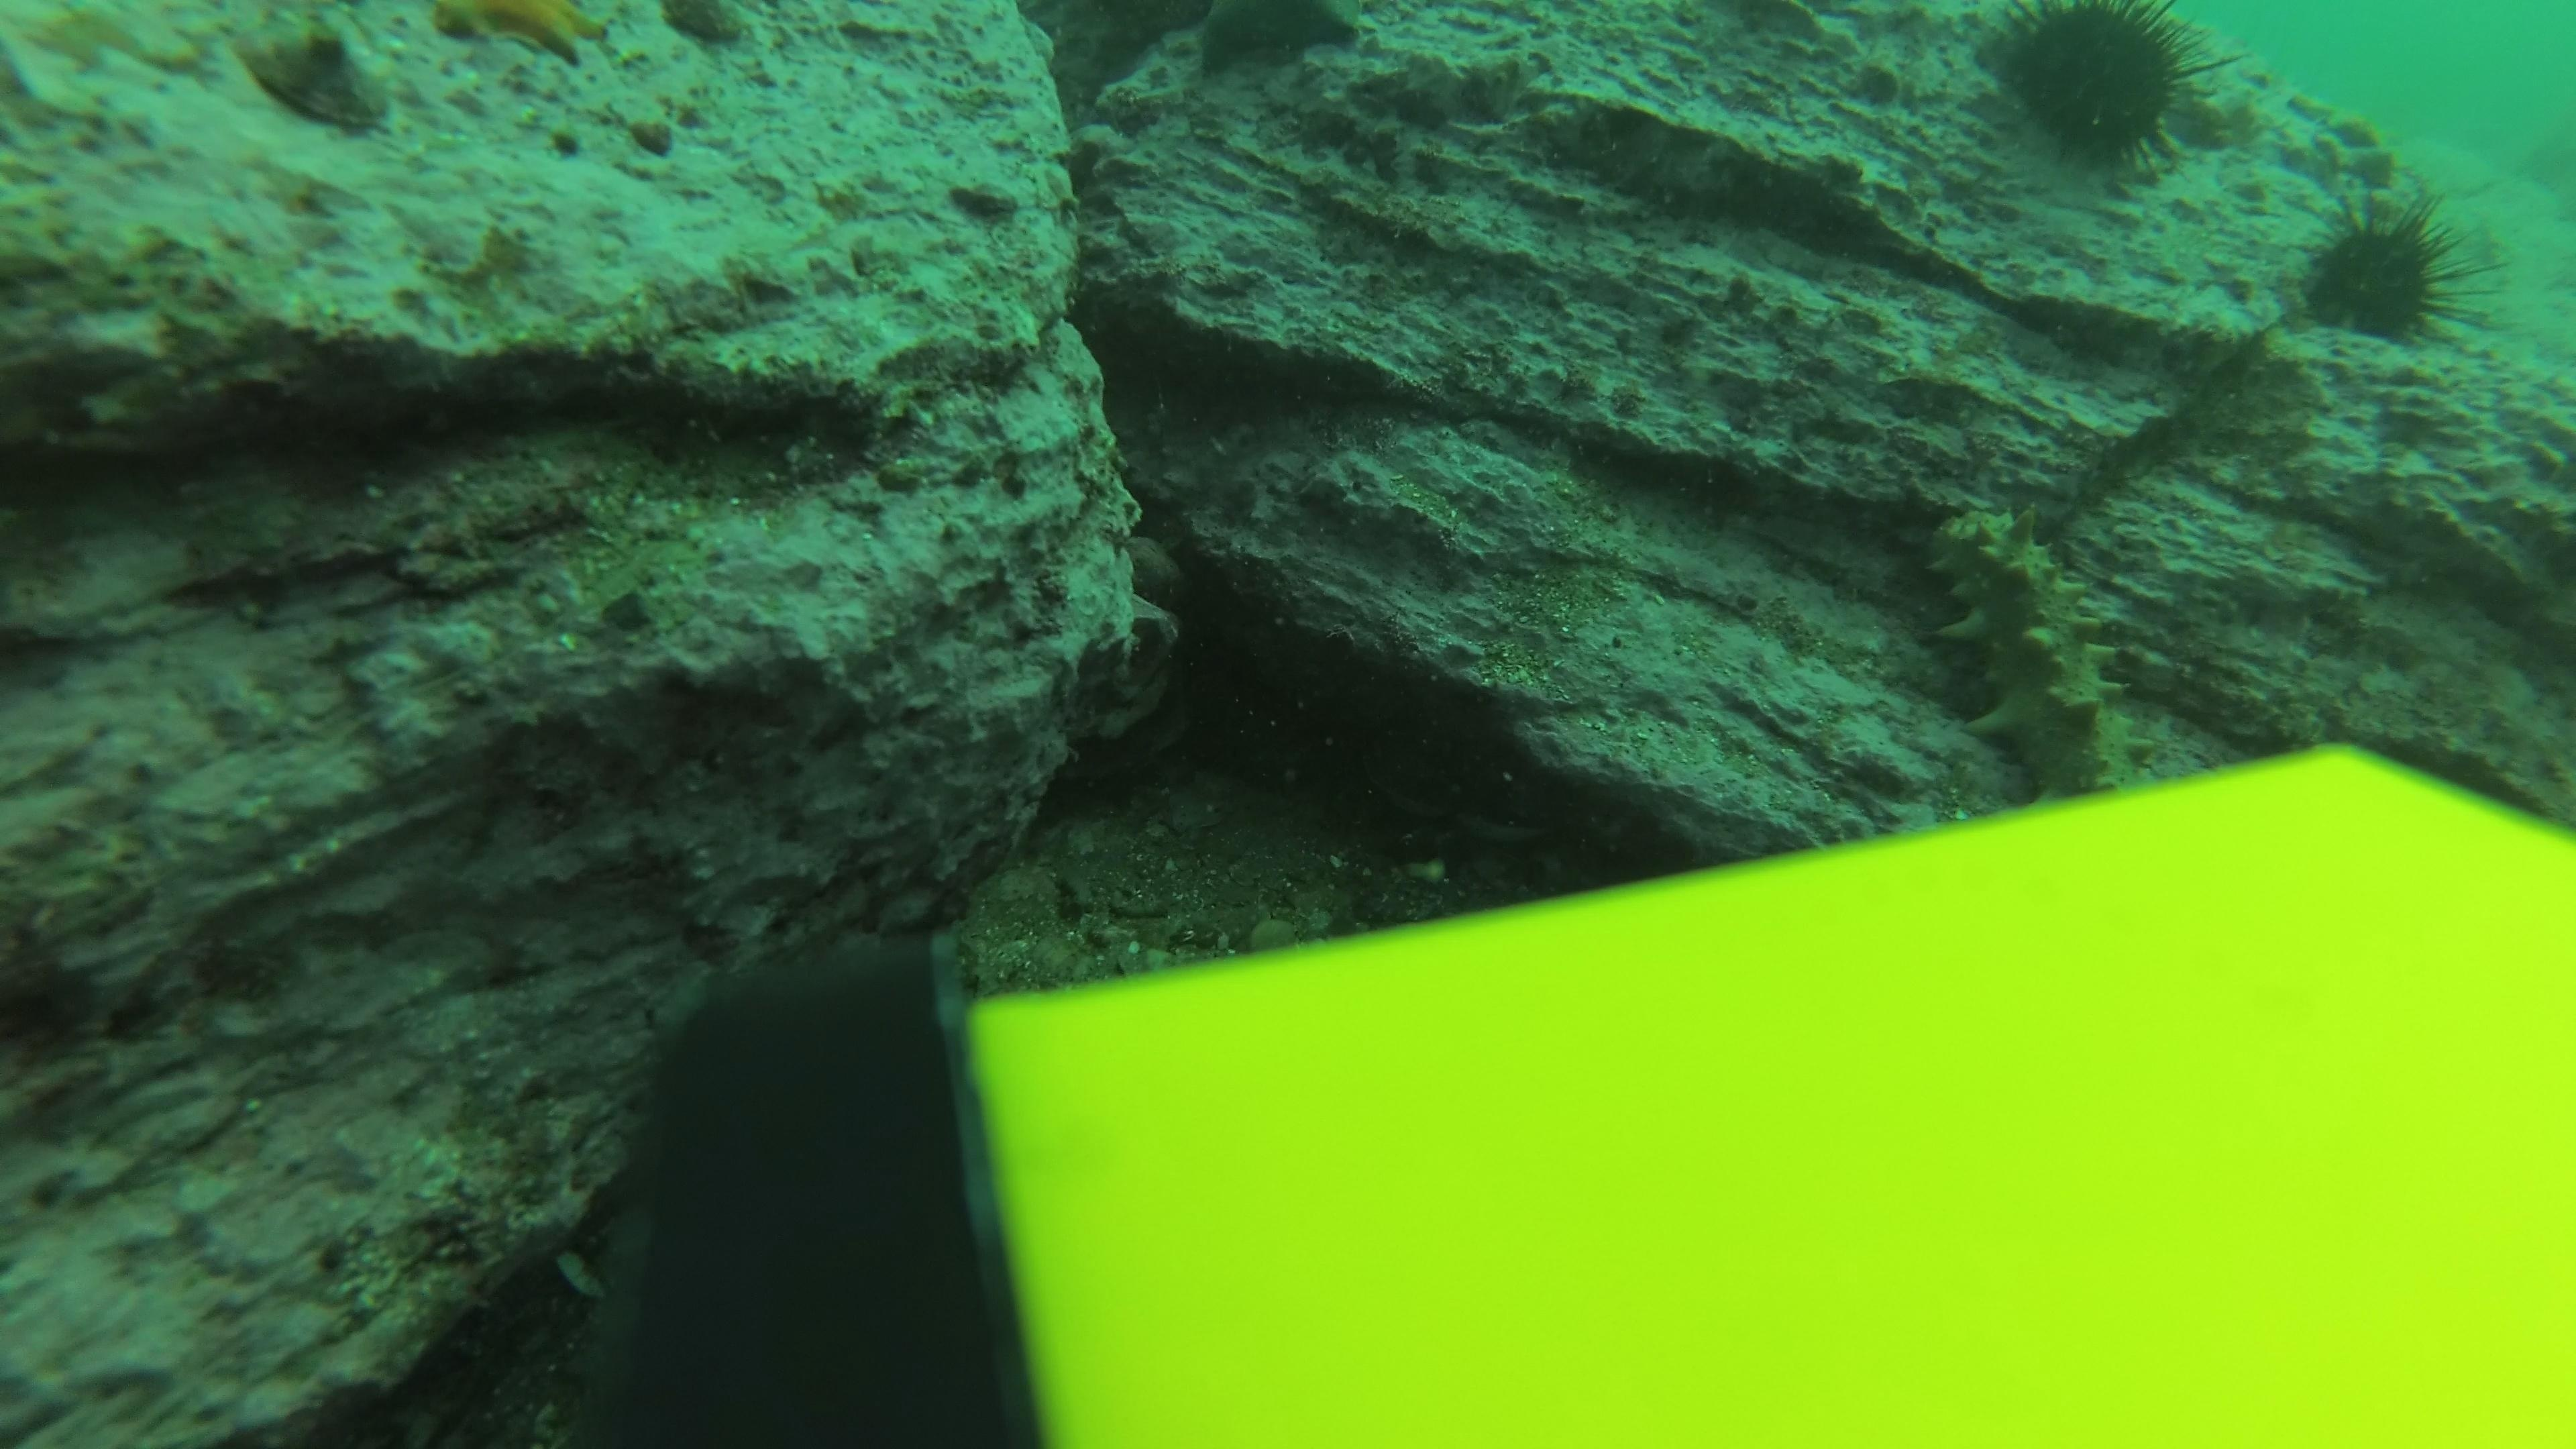echinus: (1974, 0, 2231, 184), (2289, 184, 2484, 350)
holothurian: (1911, 492, 2148, 801)
starfish: (1184, 0, 1371, 80), (426, 0, 616, 71), (2279, 85, 2399, 161)
